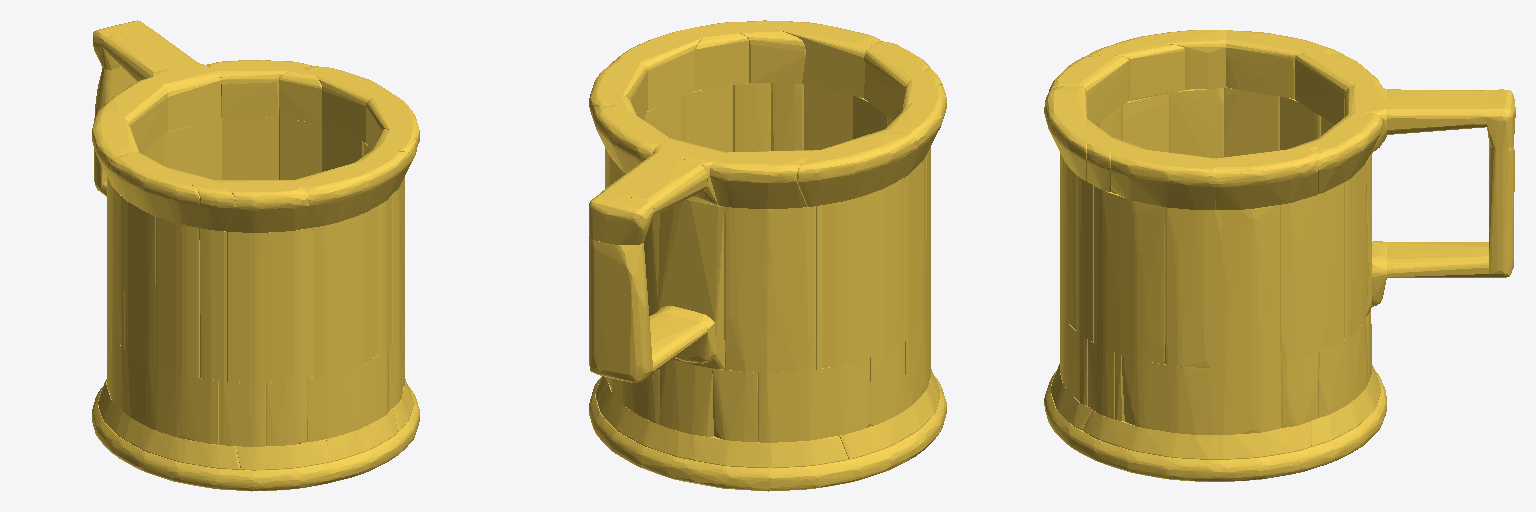
robot.urdf — 838.urdf:
<?xml version="1.0" ?>
<robot name="838.urdf">
	<link name="baseLink">
		<inertial>
			<origin rpy="0 0 0" xyz="0 0 0"/>
				<mass value="0.1"/>
				<inertia ixx="6e-5" ixy="0" ixz="0" iyy="6e-5" iyz="0" izz="6e-5"/>
		</inertial>
		<visual>
			<origin rpy="0 0 0" xyz="0 0 0"/>
			<geometry>
				<mesh filename="47_decom_wt.obj" scale="0.96 0.96 0.89"/>
			</geometry>
			<material name="yellow">
				<color rgba="0.98 0.84 0.35 1"/>
			</material>
		</visual>
		<collision>
			<origin rpy="0 0 0" xyz="0 0 0"/>
			<geometry>
				<mesh filename="47_decom_wt.obj" scale="0.96 0.96 0.89"/>
			</geometry>
		</collision>
	</link>
</robot>

--- Facts derived from the render (not from the file) ---
3 views of the same robot in one strip: view 1: azimuth 30°, elevation 25°; view 2: azimuth 150°, elevation 25°; view 3: azimuth 270°, elevation 25° (orthographic).
Robot: 838.urdf — 1 links, 0 joints (none); root link baseLink; default pose: all joints at 0.
Visible links, largest first — view 1: baseLink; view 2: baseLink; view 3: baseLink.
Link boxes in pixels (x1=…): baseLink: x1=92, y1=20, x2=419, y2=491; baseLink: x1=589, y1=20, x2=946, y2=491; baseLink: x1=1044, y1=30, x2=1515, y2=481.
Bounding box of the posed robot: 0.1186 × 0.1628 × 0.1197 m (x, y, z).
Meshes: 1 distinct files referenced, 1 mesh visuals loaded (1 OBJ).